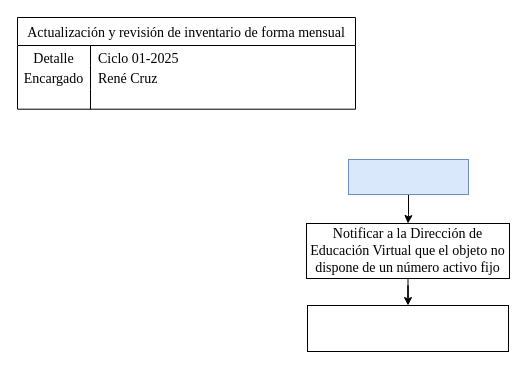
The diagram is 527 pixels wide and 369 high, and some of its shapes have lost their labels. The centre of each missing label's shape, as x and y in pixels:
"Esperar y seguir indicaciones de la Dirección de Educación Virtual" belongs at (407,328).
"Sin activo fijo" belongs at (408,176).
